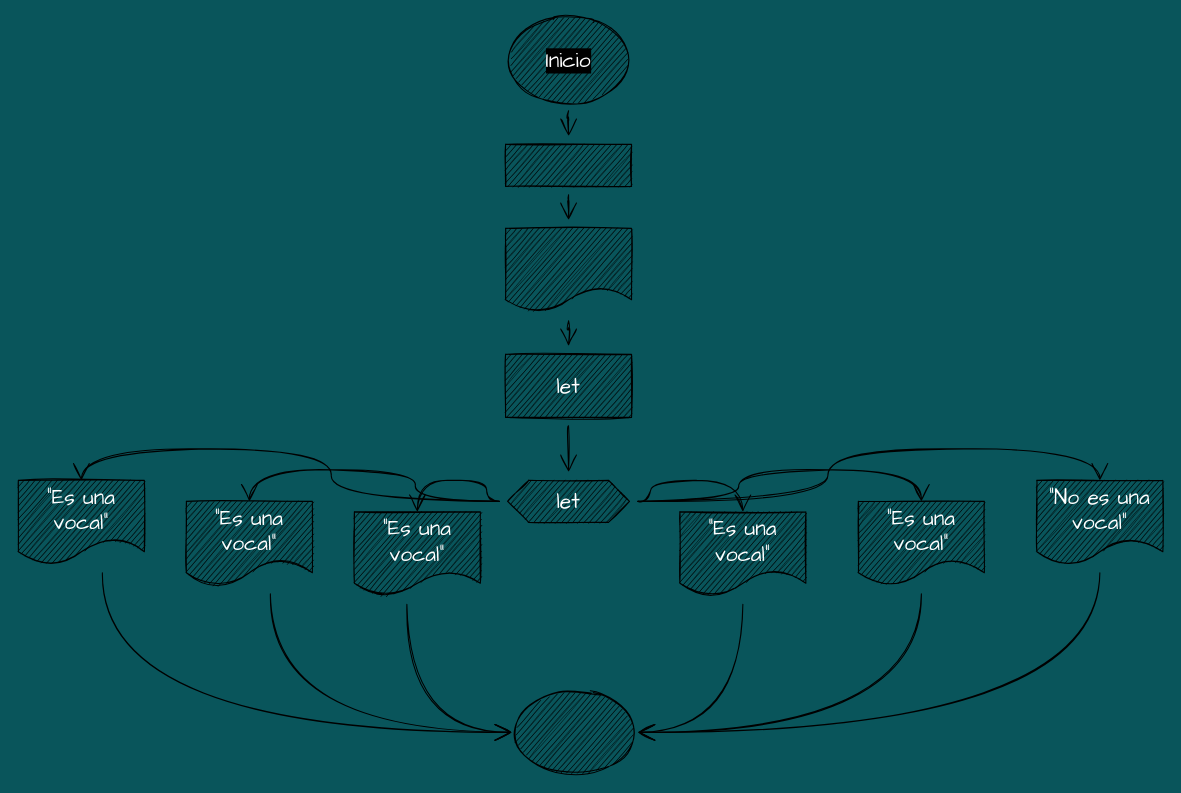
Some shapes in this 1181 by 793 pixel diagram are drawn without their labels. The shapes that lost their labels are listed below. From the top down, each one's box as (x1, y1, x2, y2) in pixels, then its label:
(505, 143, 632, 186): char(let)
(505, 227, 632, 312): "Ingrese una letra"
(511, 689, 638, 774): FIN
